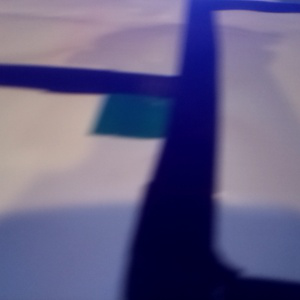bottom_left: (95, 77, 217, 139)
